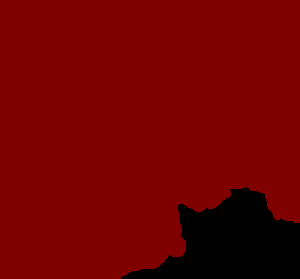Sky: (1, 1, 299, 278)
